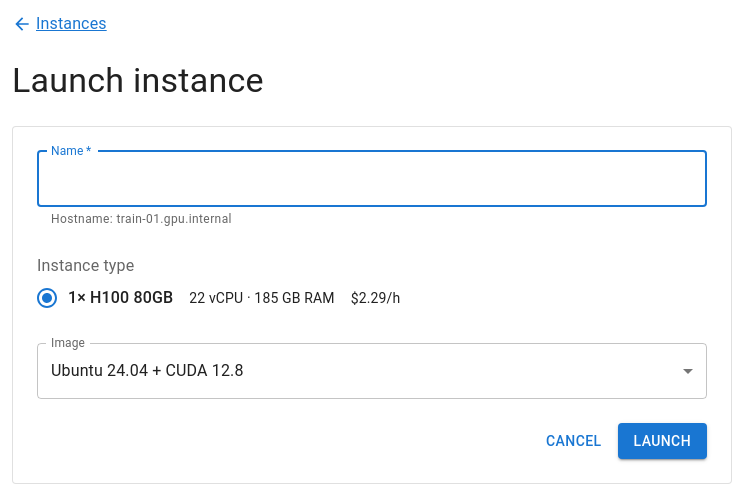
LaunchInstancePage › shows the hostname the instance will get
In the field labelled "Name *": coordinates (372, 179) 37,151 -> 707,207, type "eval-02"
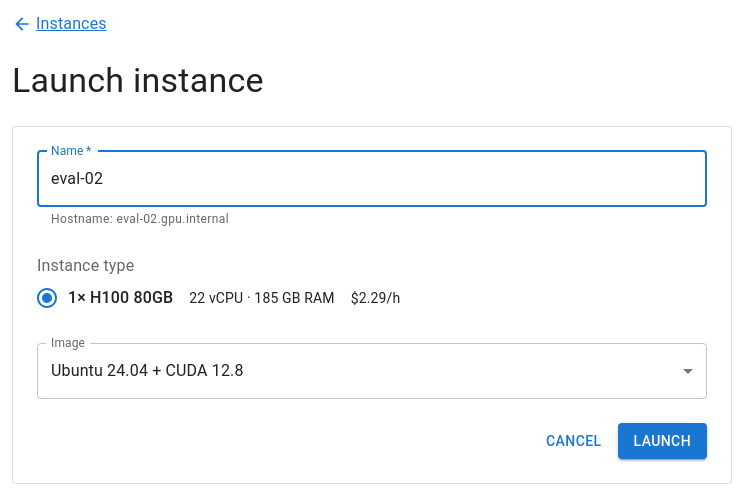
expect the text "Hostname: eval-02.gpu.internal" is shown: met, box 51,212 -> 229,226
